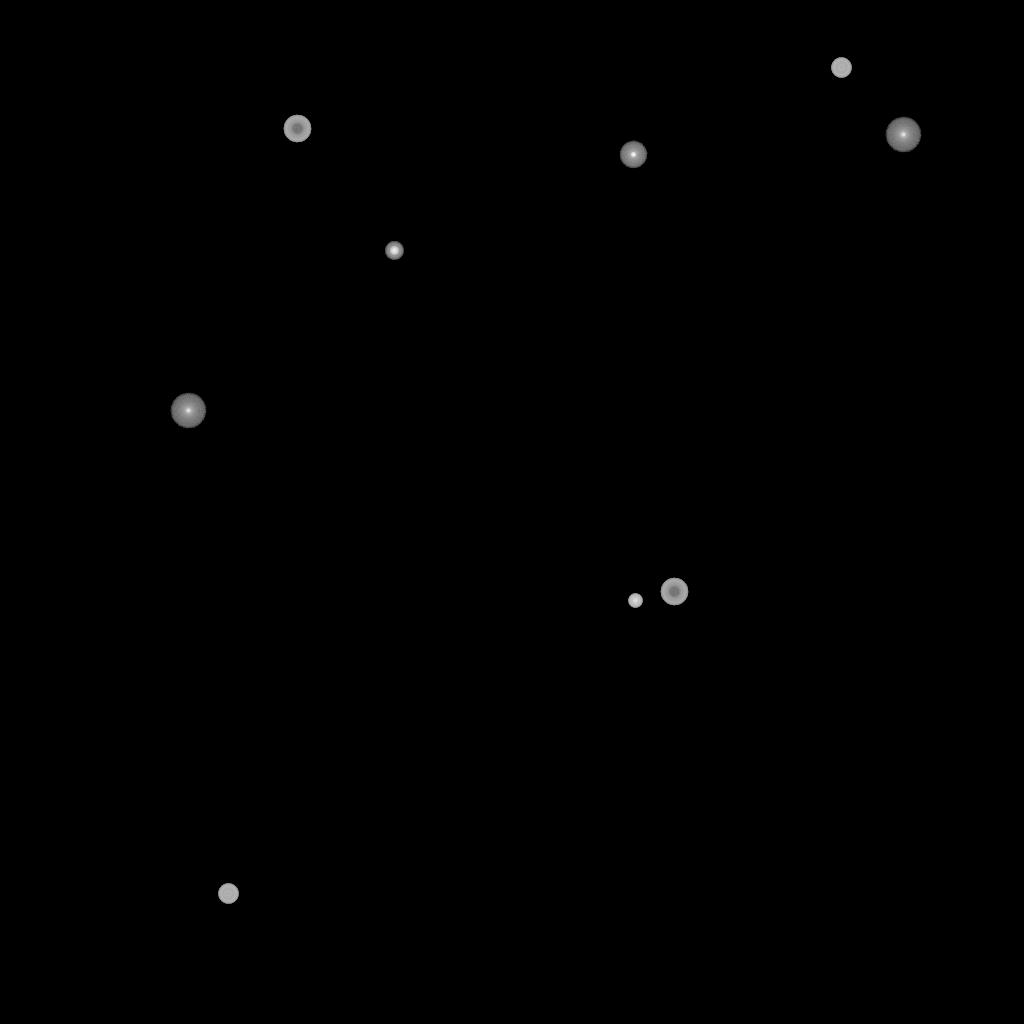depth:-10: (619, 141, 647, 169)
depth:-20: (385, 242, 403, 260)
depth:-30: (628, 594, 642, 608)
depth:-40: (831, 58, 851, 78), (218, 884, 238, 904)
depth:-50: (660, 578, 688, 606), (283, 115, 311, 143)
depth:0: (885, 117, 921, 153), (170, 393, 206, 429)
